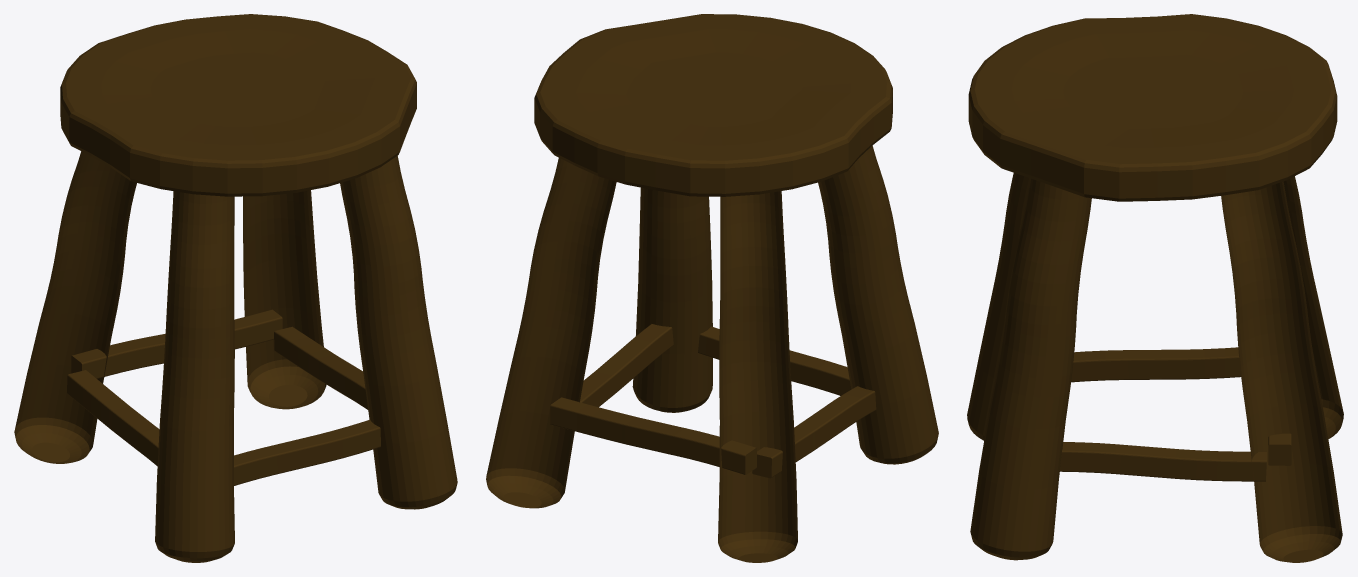
The model's file is TI_Stool.obj.
3 views of the same model, side by side, from view 1: azimuth 30°, elevation 25°; view 2: azimuth 150°, elevation 25°; view 3: azimuth 270°, elevation 25° (orthographic). The views are drawn at different scales.
Parts seen in each view (by area): view 1: Цилиндр; view 2: Цилиндр; view 3: Цилиндр.
Boxes of the visible parts, x1,y1,x2,y2 form: Цилиндр: (14, 14, 457, 562); Цилиндр: (486, 14, 938, 562); Цилиндр: (967, 14, 1343, 562).
Size of the model in its own units: 1.96 by 2.42 by 2.01.
1 material, 1 textured.
